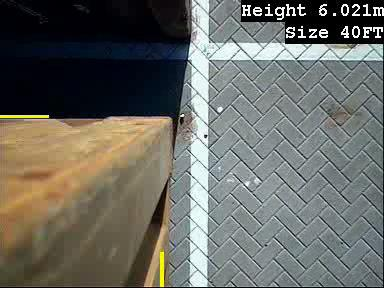groundmarker_2: (149, 50, 248, 118)
